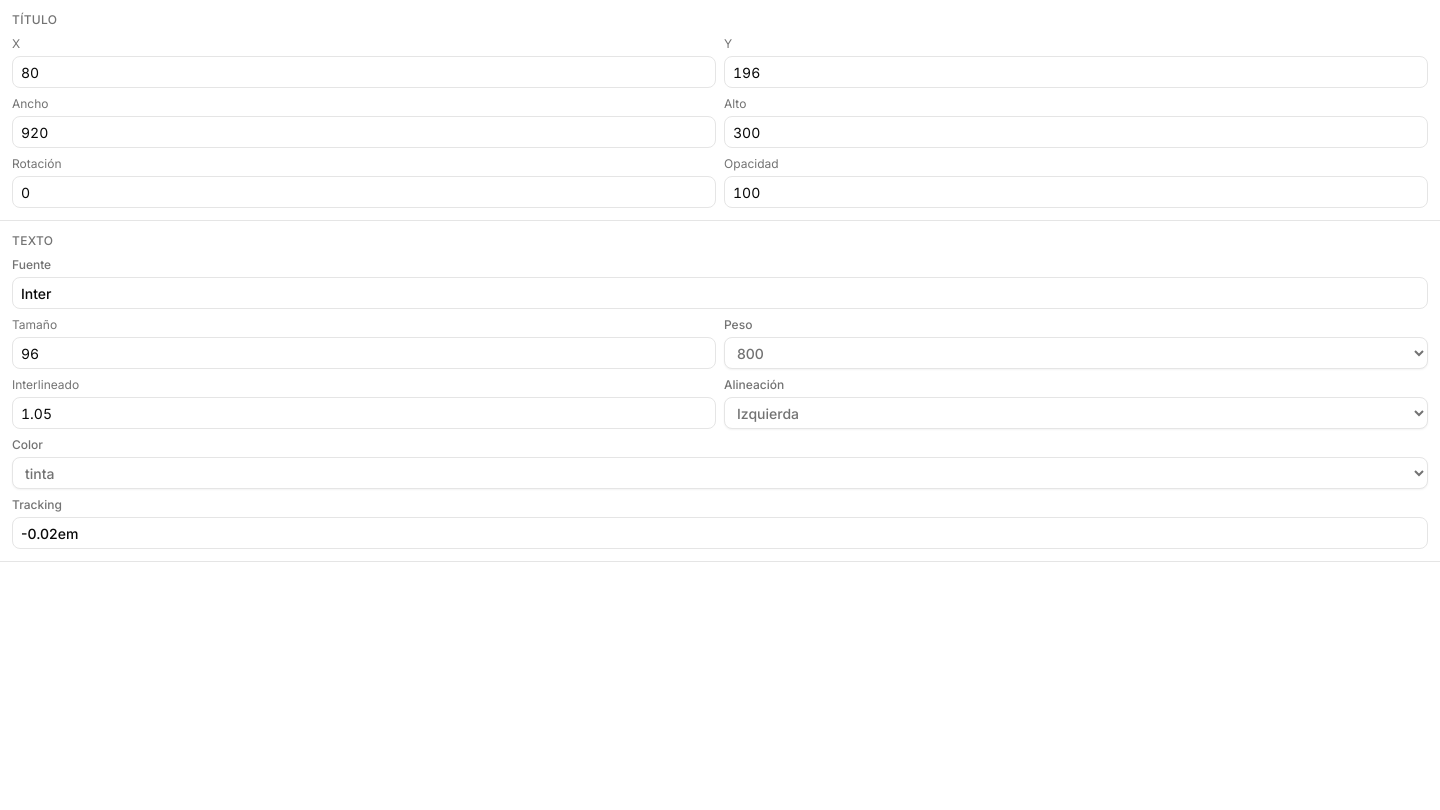
PanelPropiedades › X acotada: tras commitear muestra el valor real del store
The width and height of the screenshot is (1440, 810).
Replace the text in the number field labelled "X" with "9999" at (364,72), box [12,56,716,88]
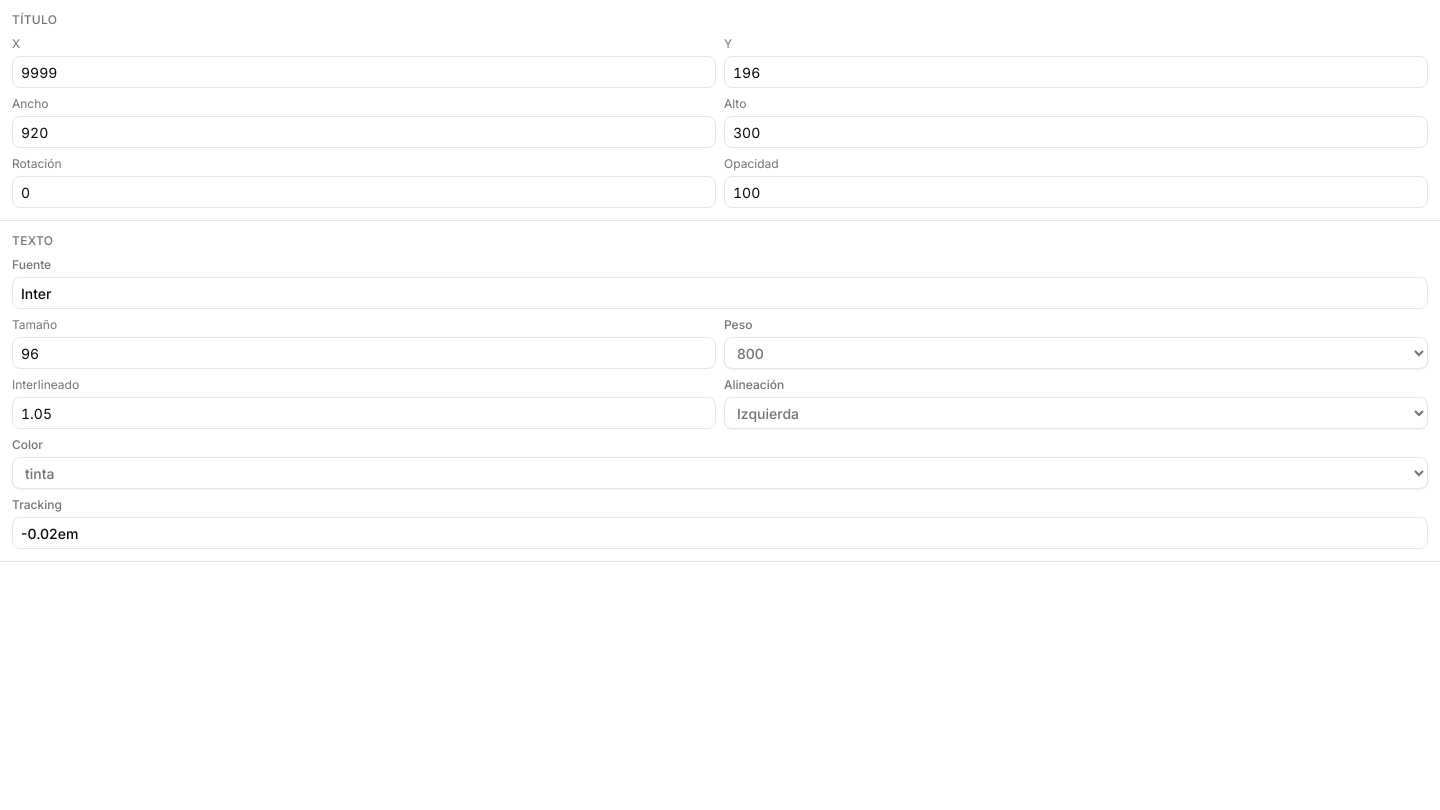
Leave the number field labelled "X", box [12,56,716,88]
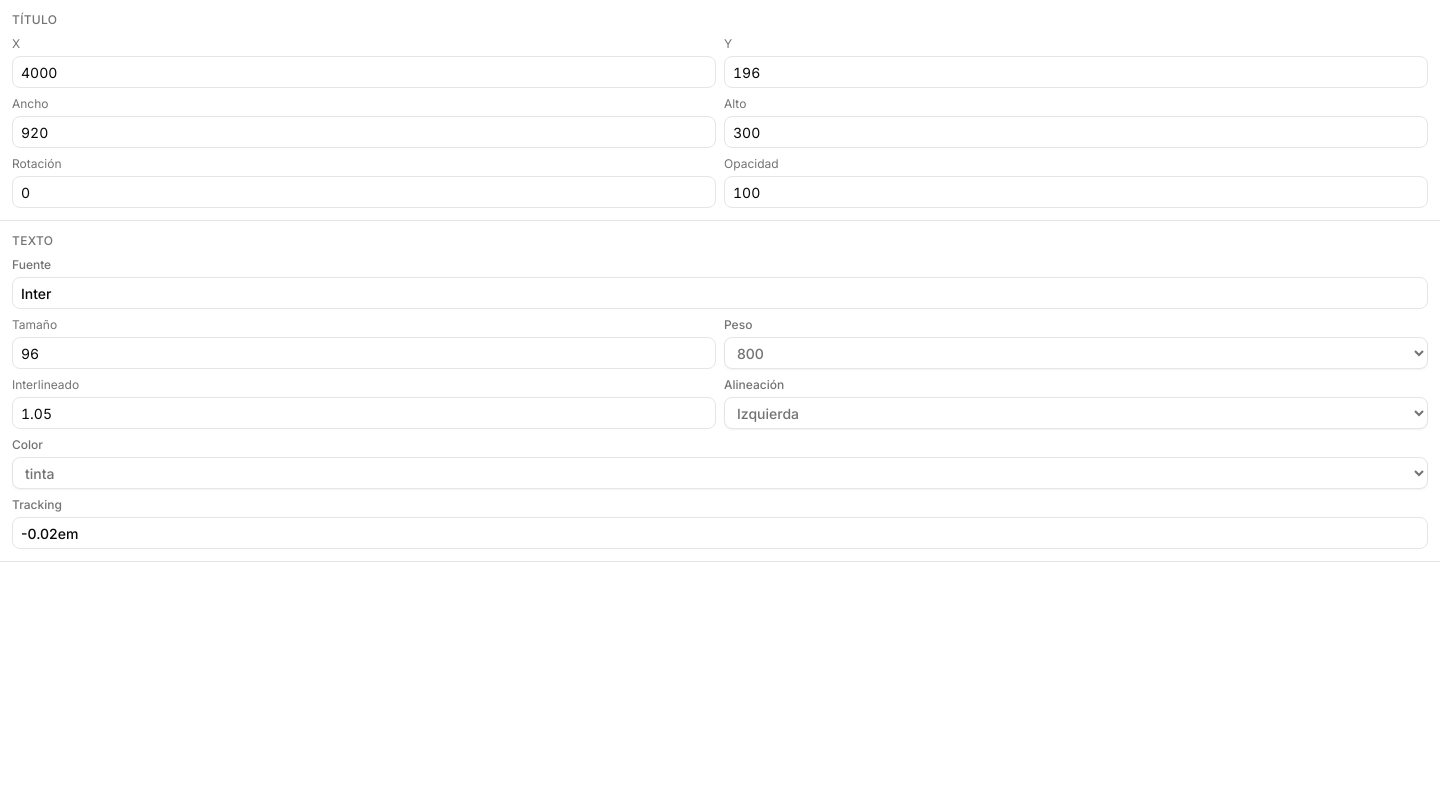
Check: the number field labelled "X" holds "4000"
Replace the text in the number field labelled "X" with "9999" at (364,72), box [12,56,716,88]
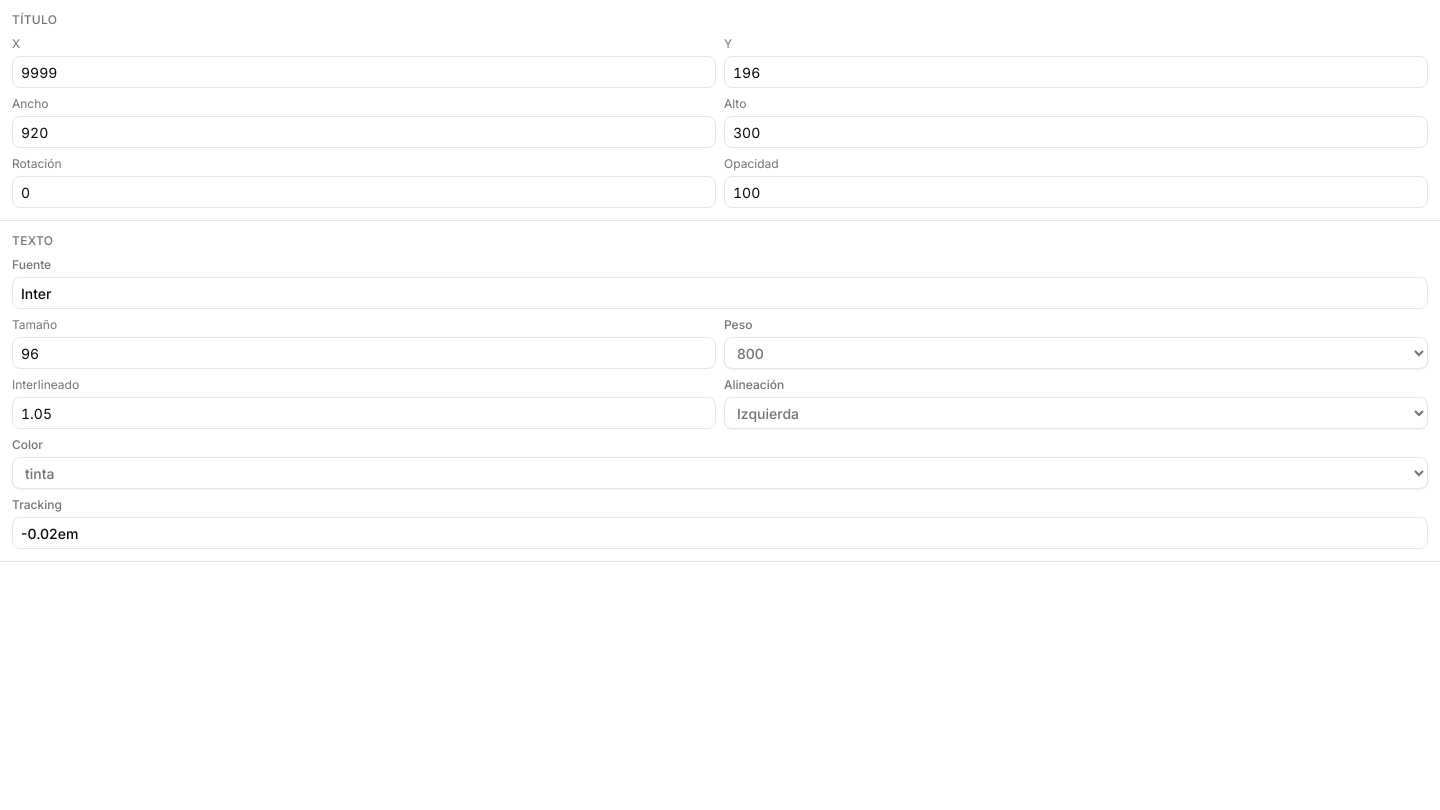
Leave the number field labelled "X", box [12,56,716,88]
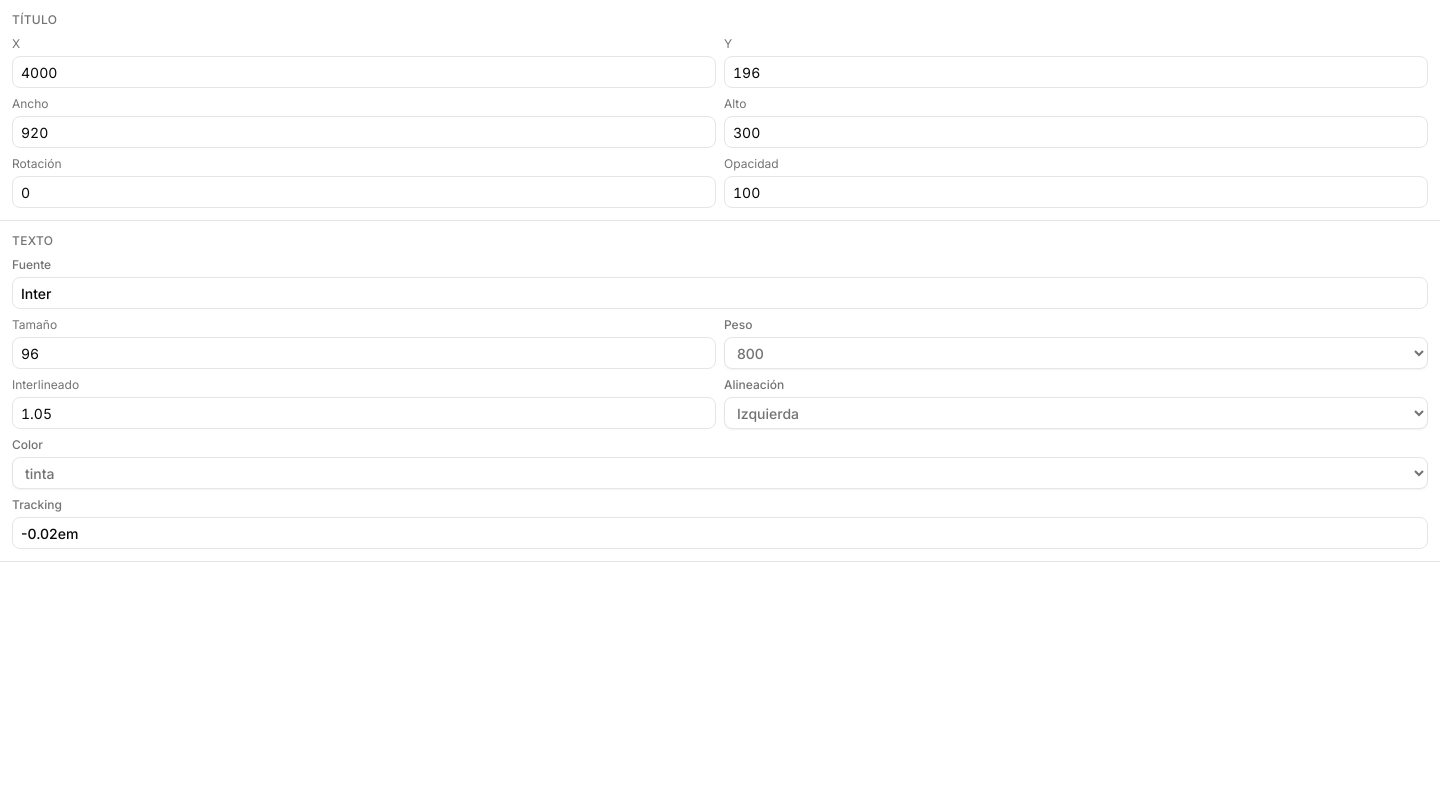
Check: the number field labelled "X" holds "4000", box [12,56,716,88]
